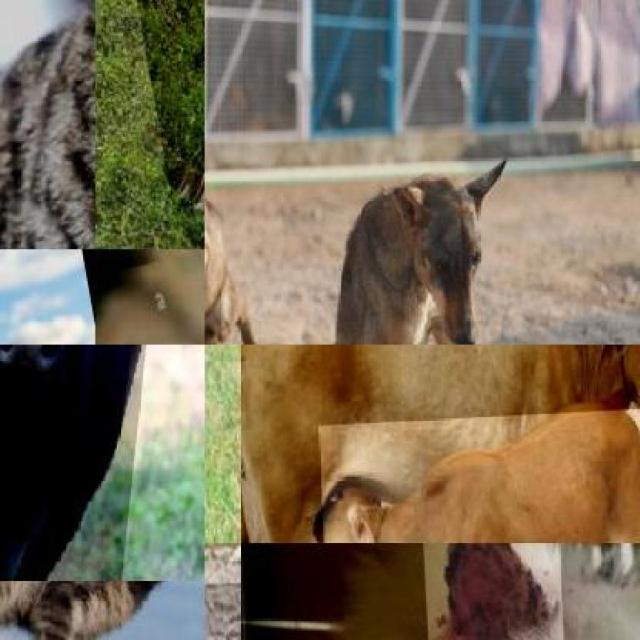buffalo: (0, 345, 168, 580)
cat: (240, 543, 640, 640), (0, 0, 95, 249), (0, 580, 205, 640)
cow: (240, 345, 640, 543), (317, 406, 640, 543), (104, 0, 204, 206)
dog: (304, 157, 514, 345), (205, 97, 268, 345)
injured: (422, 543, 568, 640), (205, 272, 269, 345)
